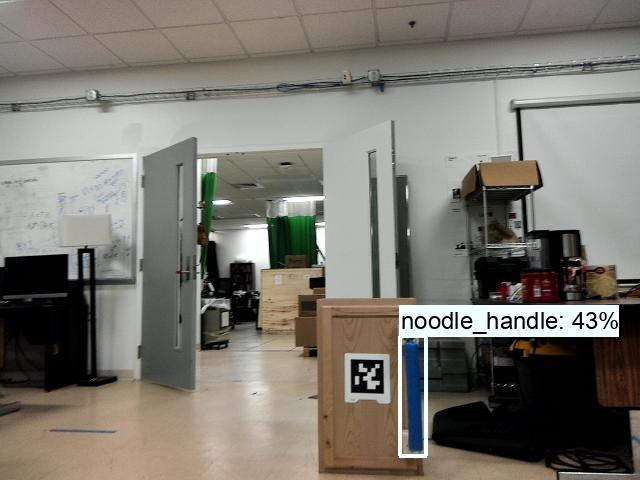noodle_handle: (400, 338, 423, 453)
